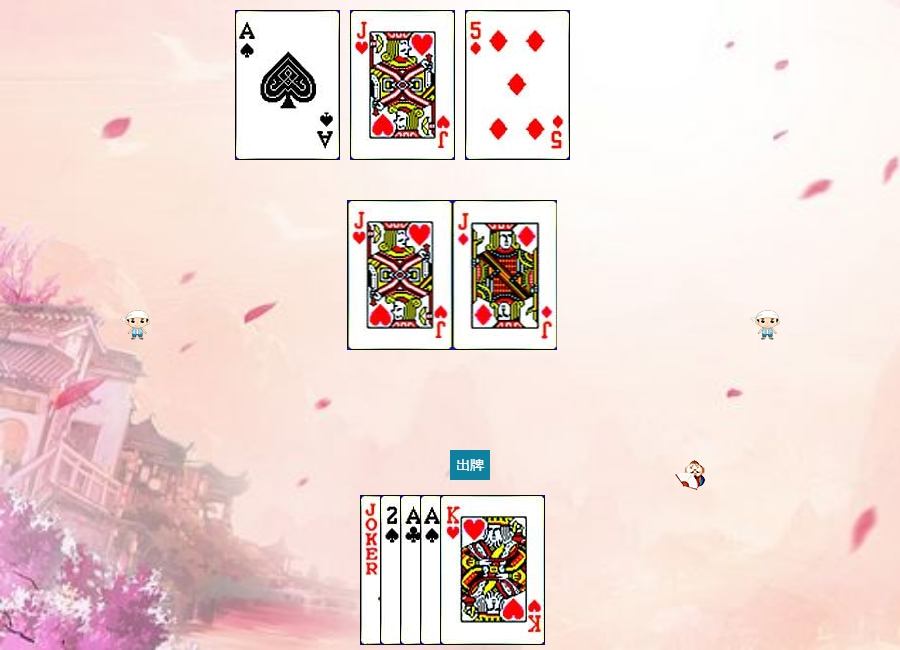11~1: (453, 200, 558, 350)
11~3: (350, 10, 455, 160), (348, 200, 453, 350)
13~3: (440, 495, 545, 645)
14~2: (400, 495, 505, 645)
14~4: (235, 10, 340, 160), (420, 495, 525, 645)
15~4: (380, 495, 485, 645)
18~4: (360, 495, 465, 645)
5~1: (465, 10, 570, 160)
